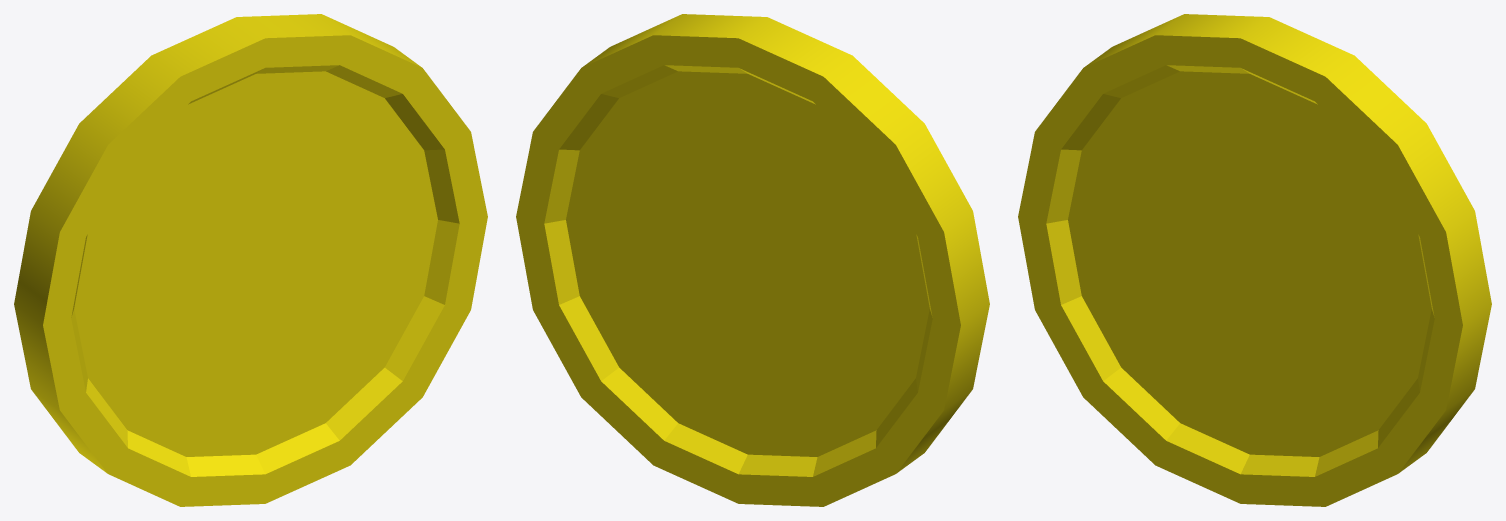
The model's file is coin_2.fbx.
The picture shows the model from 3 angles, left to right: view 1: azimuth 30°, elevation 25°; view 2: azimuth 150°, elevation 25°; view 3: azimuth 330°, elevation 25°; orthographic projection.
Visible parts, largest first — view 1: coin; view 2: coin; view 3: coin.
Boxes of the visible parts, bbox=[...] form: coin: bbox=[14, 14, 487, 506]; coin: bbox=[516, 14, 989, 506]; coin: bbox=[1018, 14, 1491, 506].
Size of the model in its own units: 34.73 by 34.73 by 3.91.
